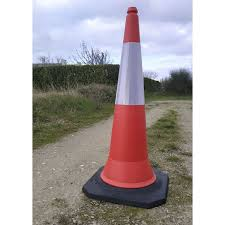obstacle: (88, 6, 170, 212)
